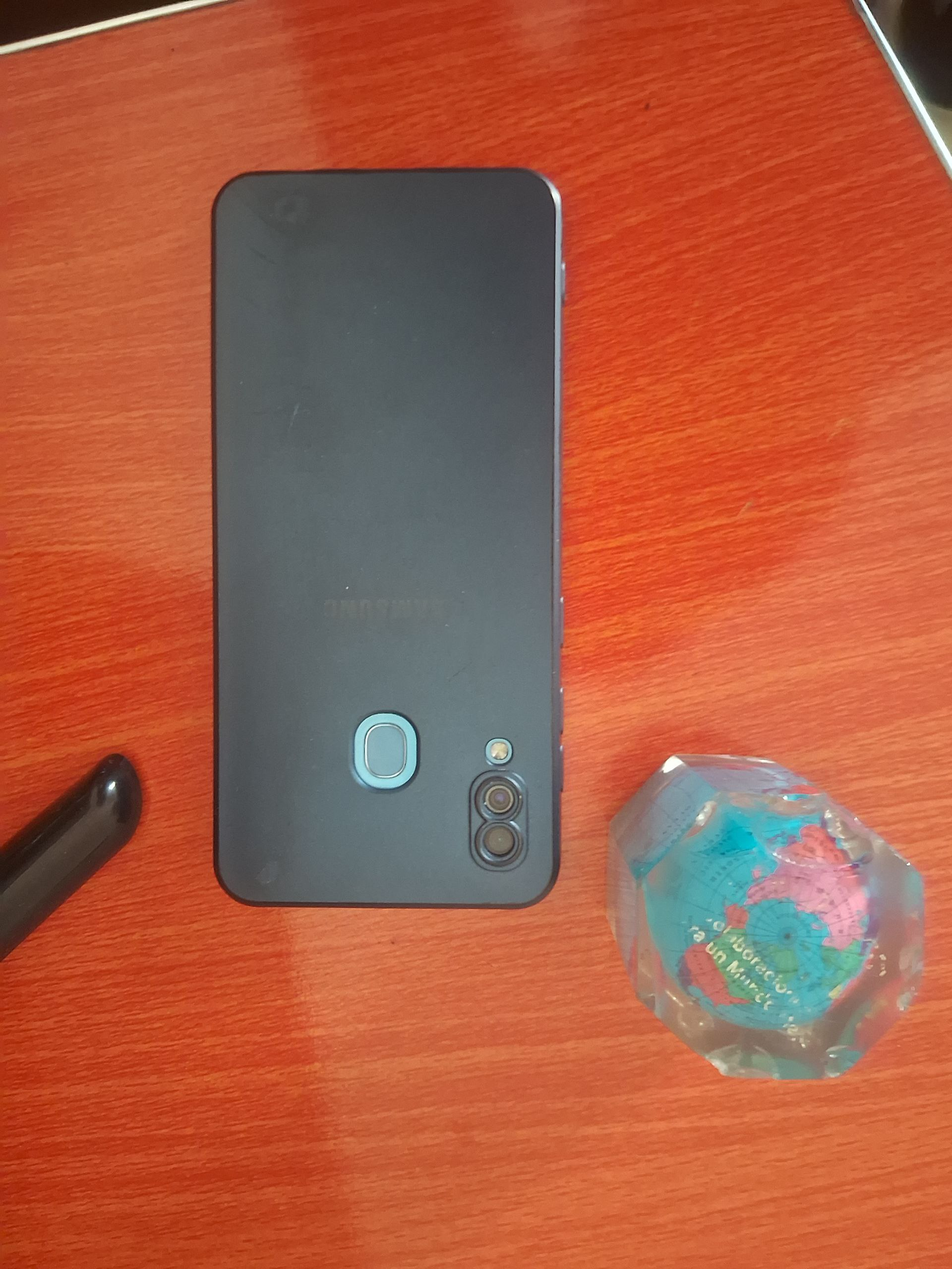Smart_phone: (192, 149, 581, 923)
world_globe: (601, 741, 933, 1097)
